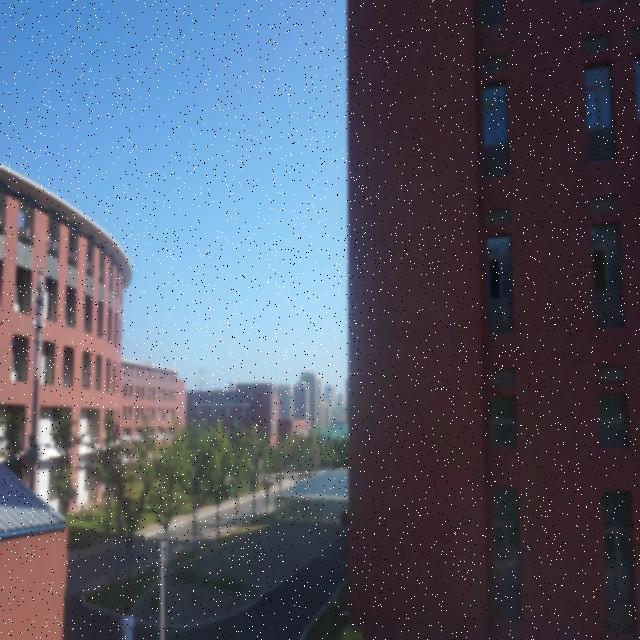UAV: (9, 340, 19, 346)
